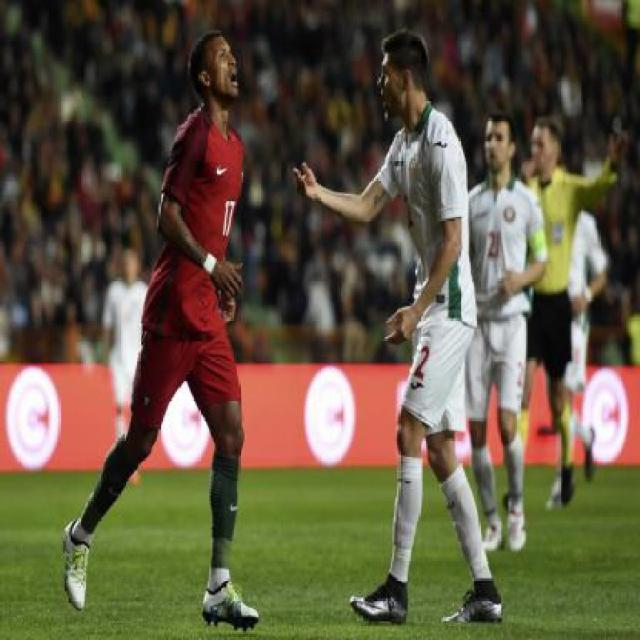Person: (353, 22, 492, 622), (132, 23, 246, 639)
